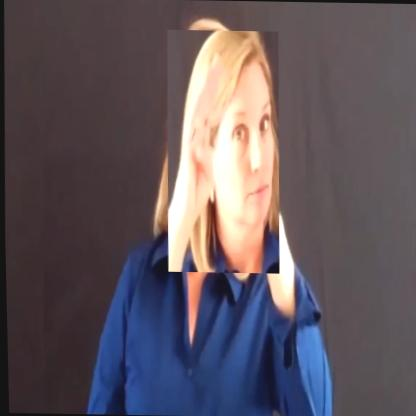Hello: (163, 29, 282, 273)
